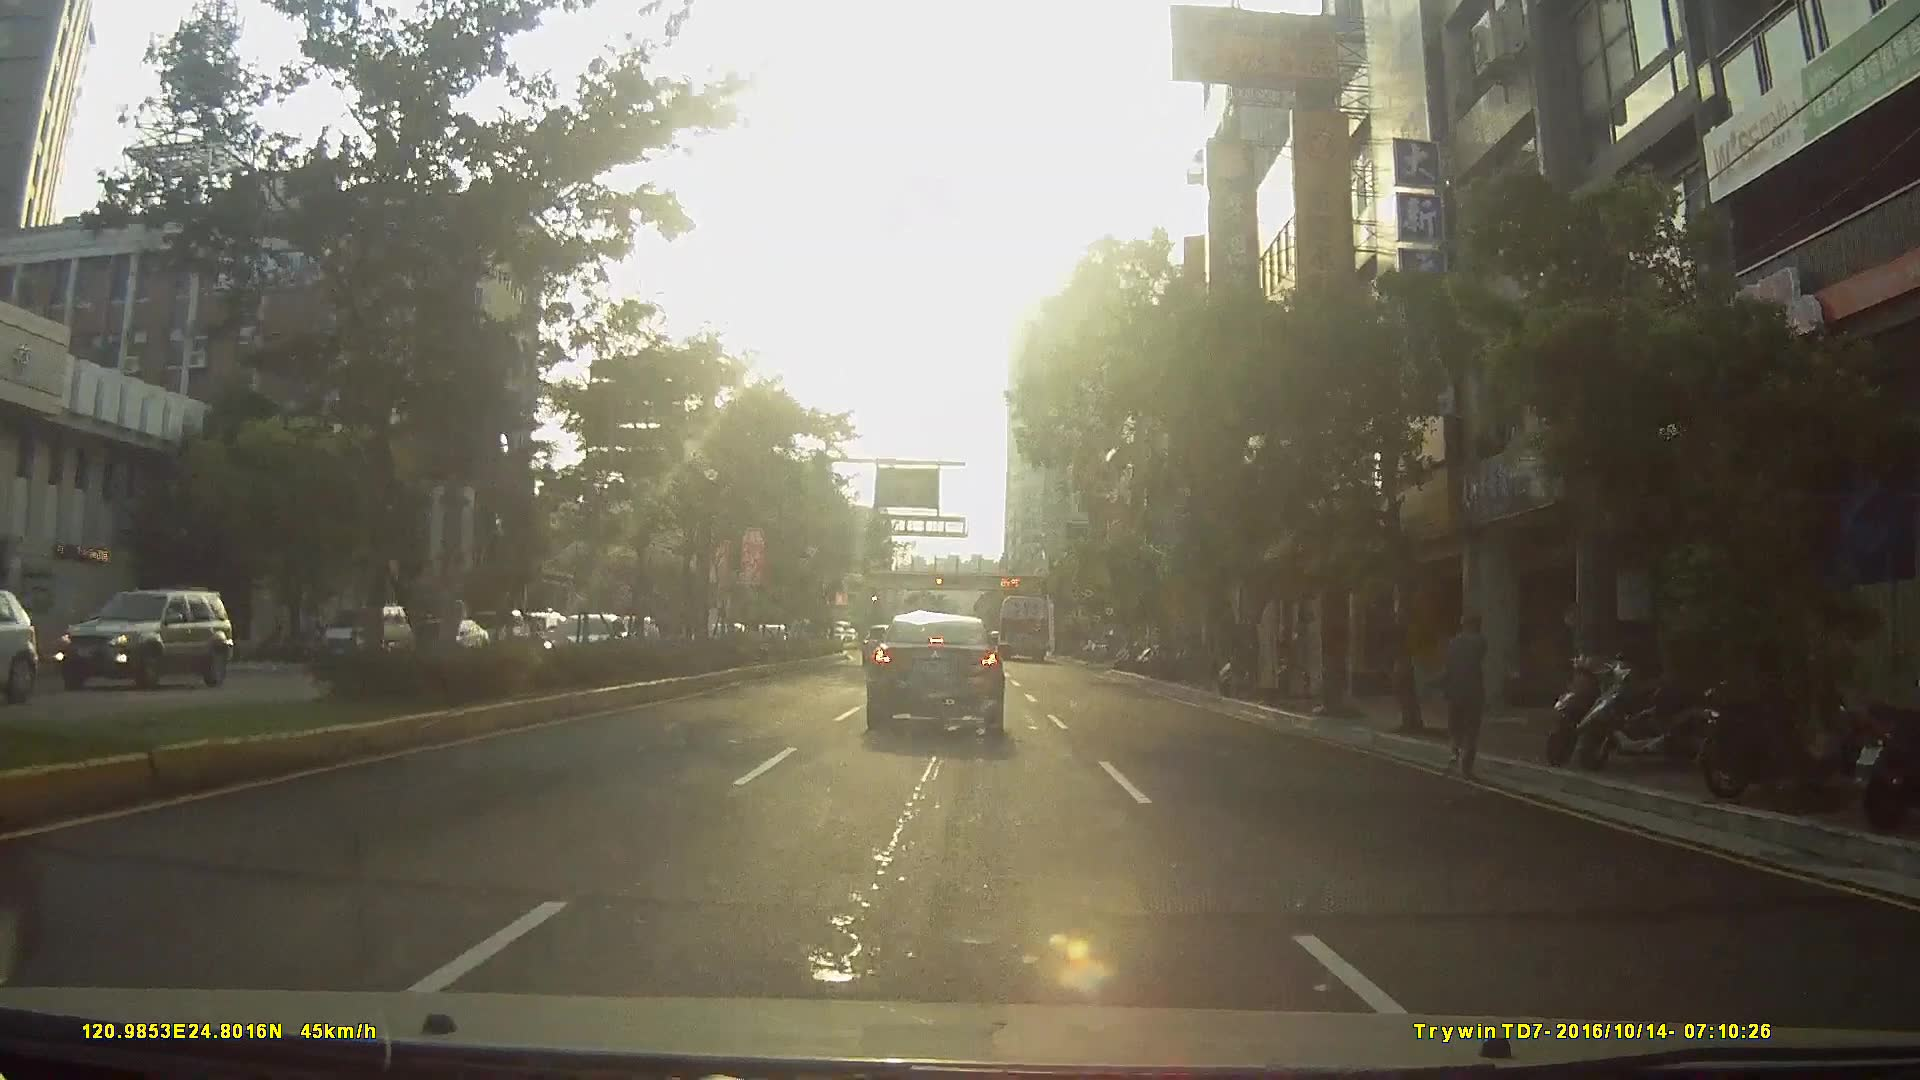pedestrian: (1437, 614, 1497, 778)
vehicle: (38, 587, 233, 706), (864, 609, 1006, 731), (317, 600, 412, 659), (1, 585, 44, 707), (995, 592, 1050, 659)
